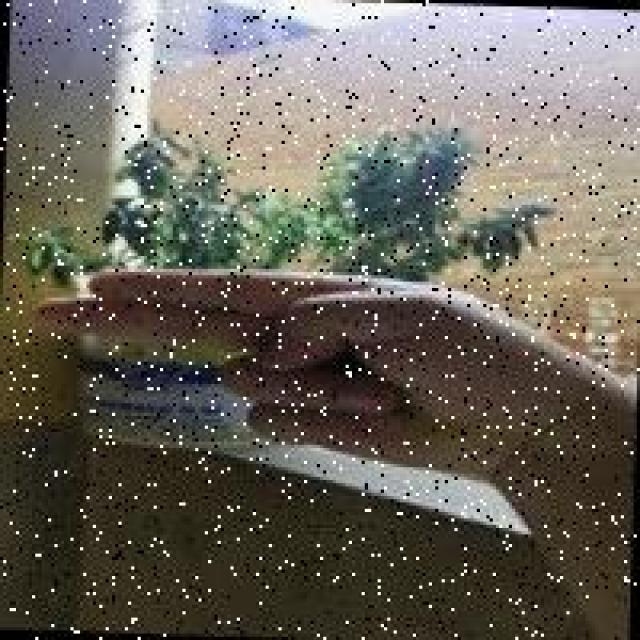H: (18, 259, 552, 496)
